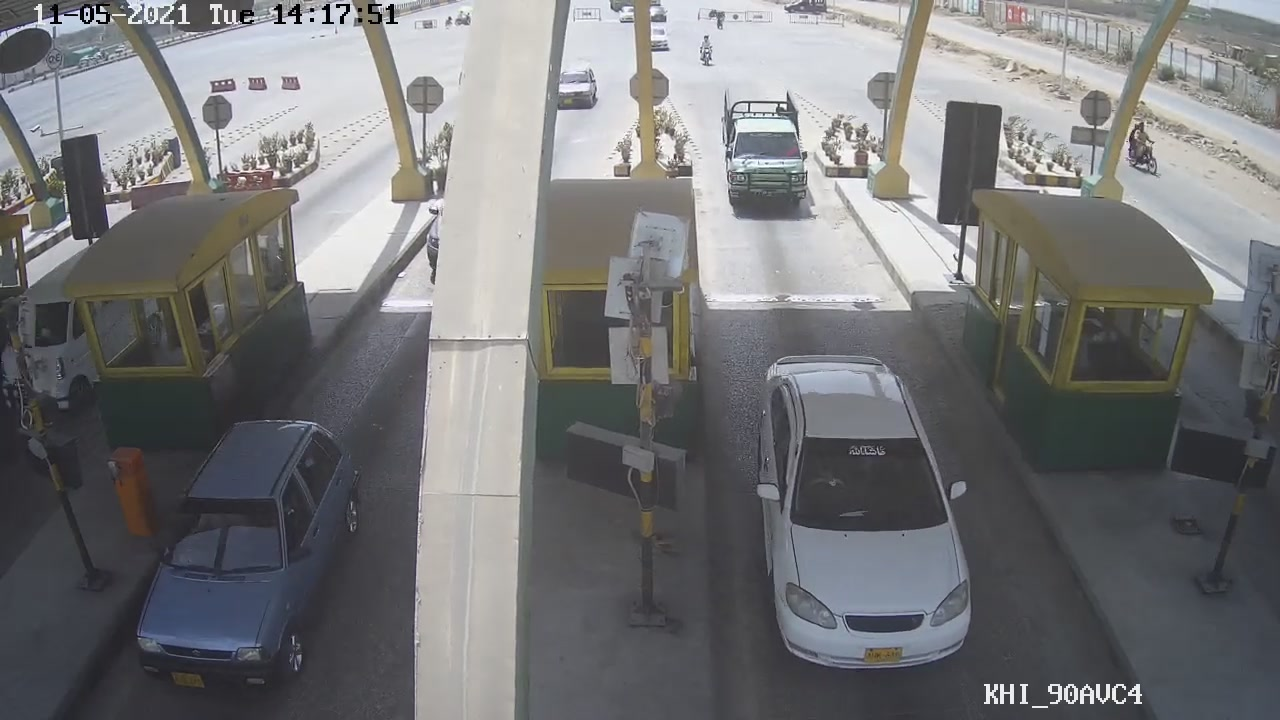F1: (748, 347, 970, 678)
